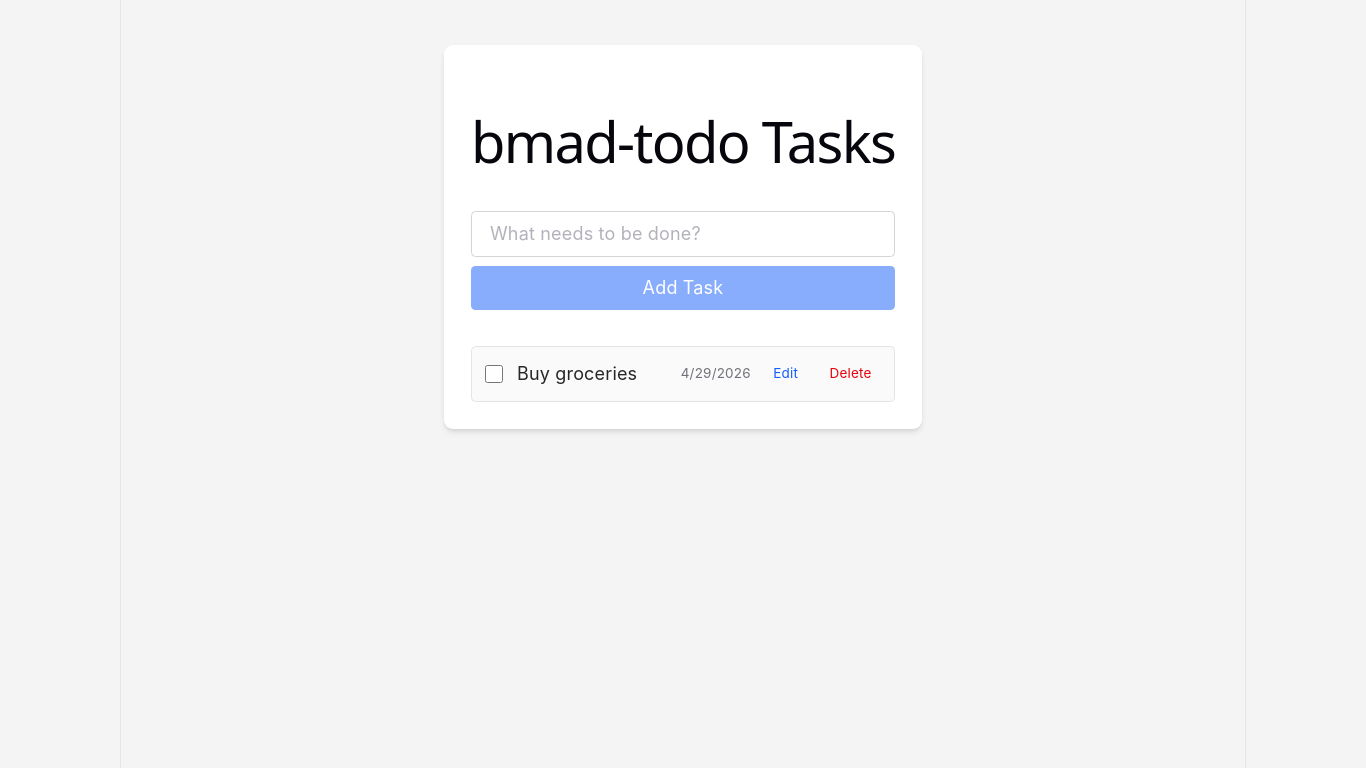
Test: TaskApp › complete task › shows toast and reverts checkbox when PATCH complete fails
This screenshot has width=1366, height=768.
Check: the text "Buy groceries" is shown, box [517,361,637,387]
Click the checkbox named "mark \"buy groceries\" as complete": (494,374) [486,365,504,383]
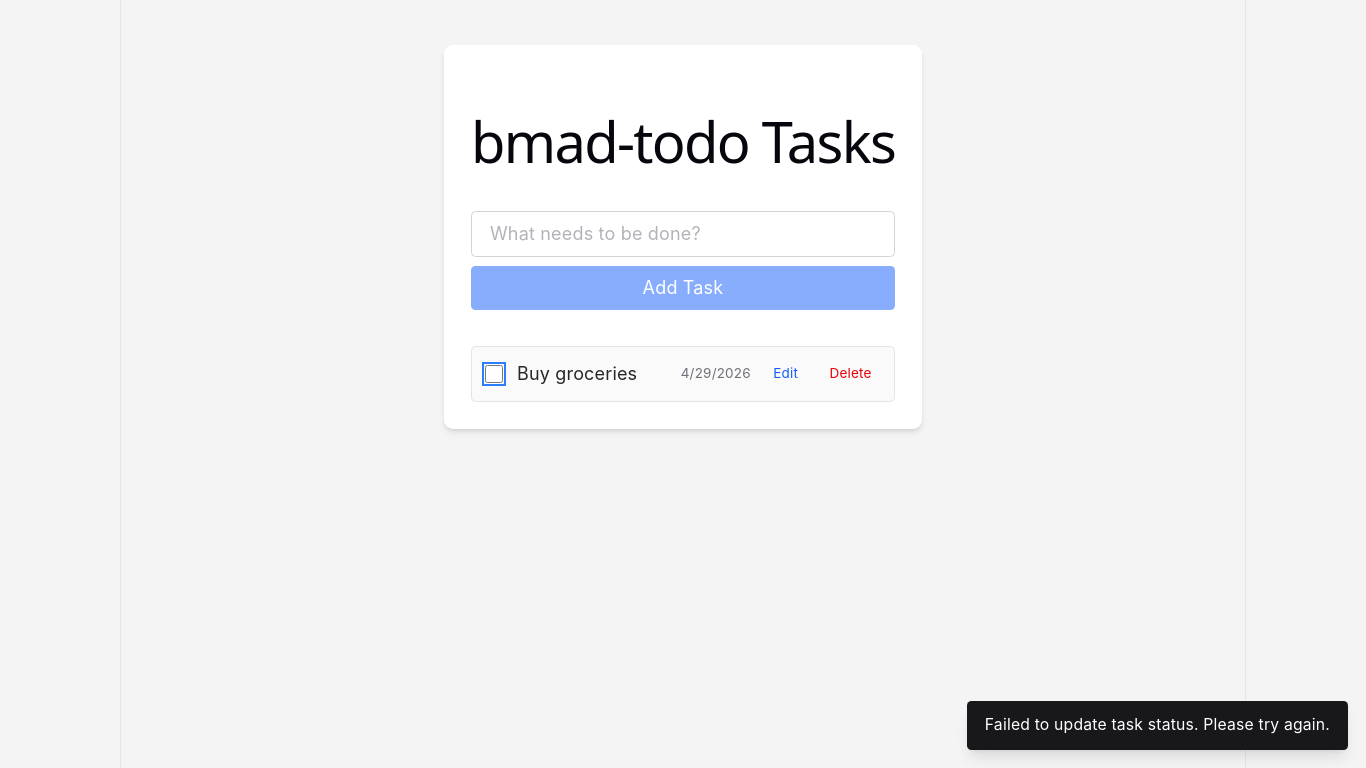
Check: the message "Failed to update task status. Please try again." is shown, box [967,700,1348,750]
Check: the message shows "Failed to update task status", box [985,715,1330,734]
